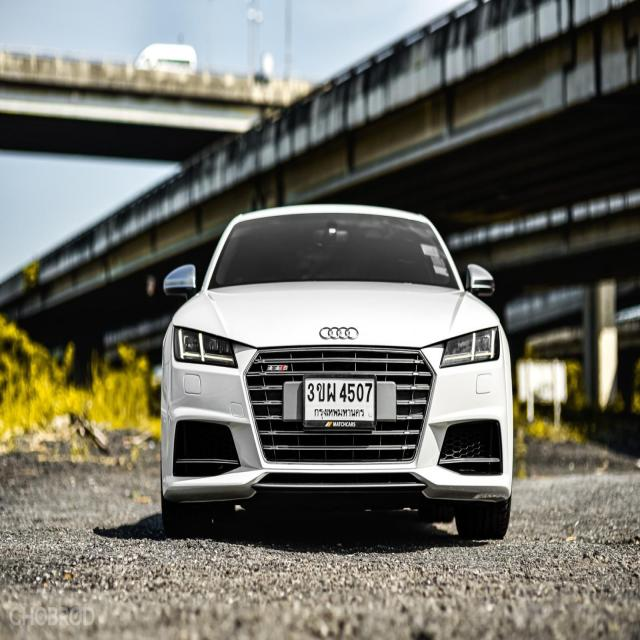license_plate: (302, 370, 377, 432)
